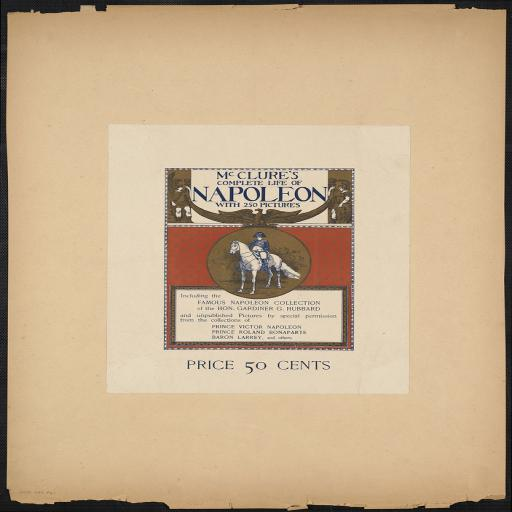horse: (228, 240, 300, 296)
